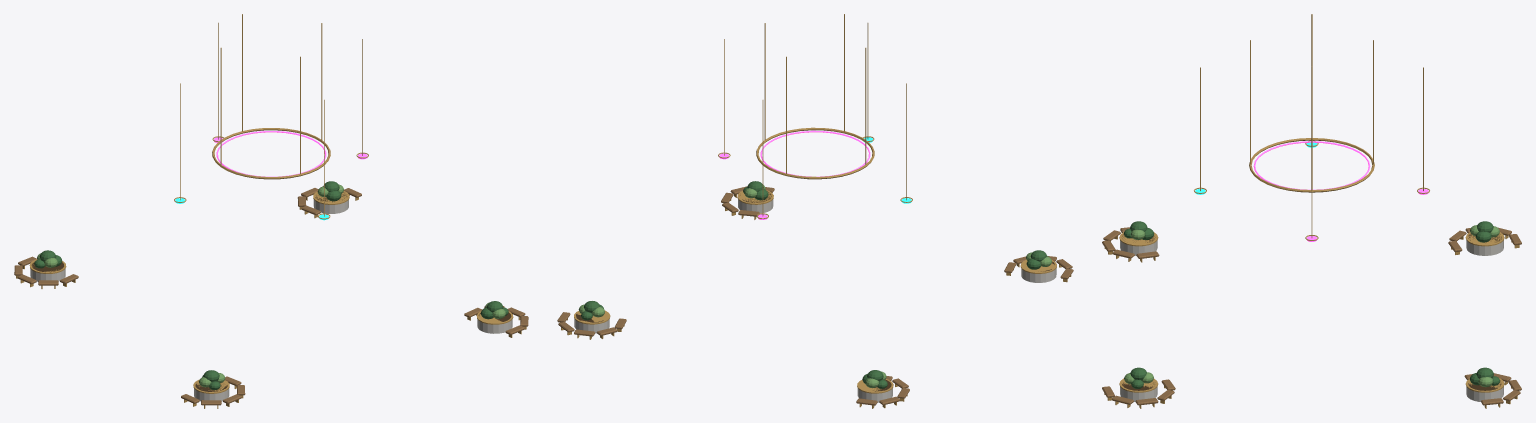
The model's file is mall-public-commons-v1.glb.
3 renders of one model, left to right at view 1: azimuth 30°, elevation 25°; view 2: azimuth 150°, elevation 25°; view 3: azimuth 270°, elevation 25°, orthographic. The views are drawn at different scales.
Parts seen in each view (by area): view 1: PublicCommons_Brushed brass, PublicCommons_Oak seating, PublicCommons_Terrazzo warm gray, PublicCommons_Foliage forest, PublicCommons_Foliage olive, PublicCommons_Neon magenta; view 2: PublicCommons_Brushed brass, PublicCommons_Oak seating, PublicCommons_Terrazzo warm gray, PublicCommons_Foliage forest, PublicCommons_Foliage olive, PublicCommons_Neon magenta; view 3: PublicCommons_Brushed brass, PublicCommons_Oak seating, PublicCommons_Terrazzo warm gray, PublicCommons_Foliage forest, PublicCommons_Foliage olive, PublicCommons_Neon magenta.
Boxes of the visible parts, left/top/right/bottom form: PublicCommons_Brushed brass: left=16, top=14, right=526, bottom=408; PublicCommons_Oak seating: left=14, top=186, right=528, bottom=405; PublicCommons_Terrazzo warm gray: left=30, top=199, right=512, bottom=401; PublicCommons_Foliage forest: left=34, top=181, right=508, bottom=390; PublicCommons_Foliage olive: left=37, top=184, right=505, bottom=387; PublicCommons_Neon magenta: left=214, top=131, right=367, bottom=176; PublicCommons_Brushed brass: left=559, top=14, right=1071, bottom=408; PublicCommons_Oak seating: left=557, top=186, right=1073, bottom=405; PublicCommons_Terrazzo warm gray: left=574, top=199, right=1056, bottom=402; PublicCommons_Foliage forest: left=581, top=181, right=1048, bottom=388; PublicCommons_Foliage olive: left=578, top=185, right=1052, bottom=388; PublicCommons_Neon magenta: left=719, top=130, right=870, bottom=219; PublicCommons_Brushed brass: left=1104, top=14, right=1519, bottom=408; PublicCommons_Oak seating: left=1102, top=227, right=1521, bottom=405; PublicCommons_Terrazzo warm gray: left=1120, top=240, right=1503, bottom=401; PublicCommons_Foliage forest: left=1123, top=221, right=1499, bottom=388; PublicCommons_Foliage olive: left=1124, top=225, right=1499, bottom=387; PublicCommons_Neon magenta: left=1253, top=141, right=1428, bottom=241.
Bounding box in the file's own units: 28.61 × 21.14 × 28.61.
